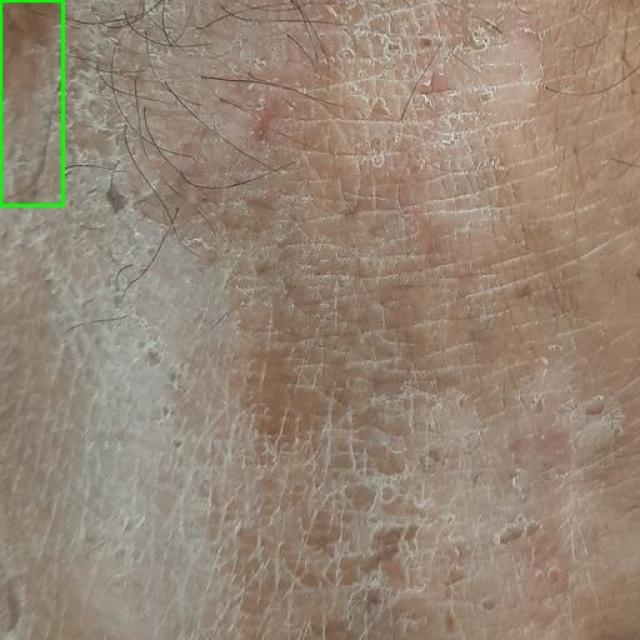Tinea Corporis: (0, 0, 62, 205)
